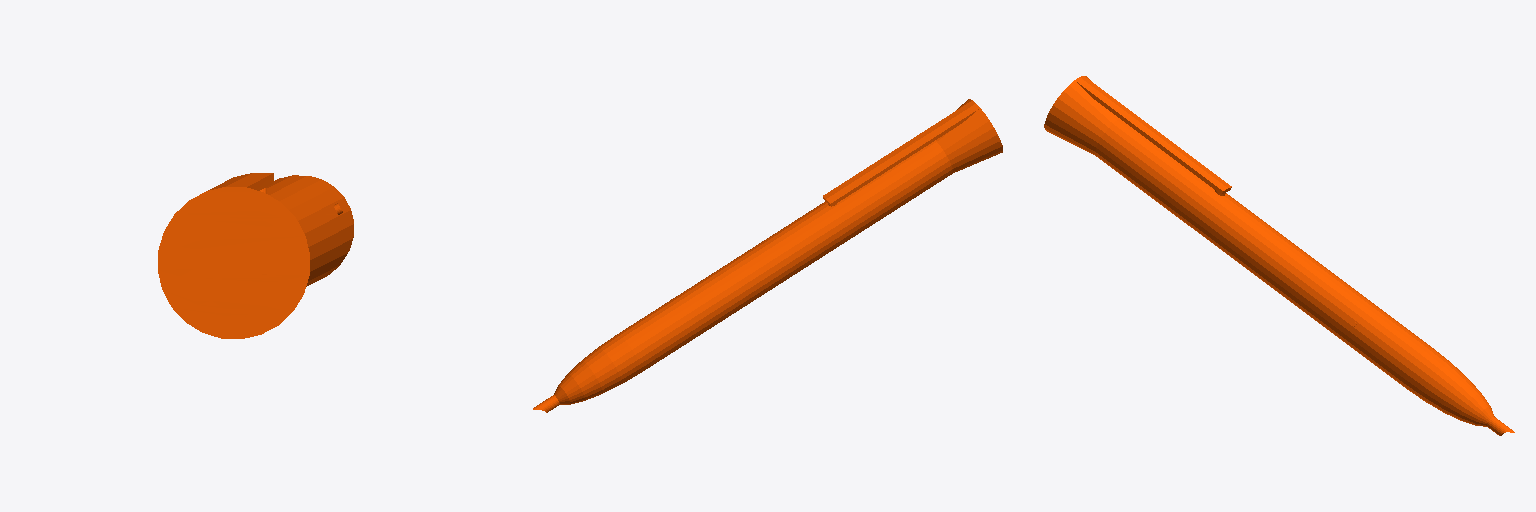
URDF robot description (Pen_30fe2caf47e9305154417498166ea895):
<?xml version="1.0" ?>
<robot name="Pen_30fe2caf47e9305154417498166ea895">
   <material name="obj_color">
      <color rgba="1.0 0.423529411765 0.0392156862745 1.0"/>
   </material>
   <link name="top">
      <inertial>
         <origin rpy="1.33916413984481e-06 7.144141227940514e-05 7.148649113729911e-05" xyz="-0.007845892348803502 -0.01172358051162621 0.005923774010687818"/>
         <mass value="0.03538982358283103"/>
         <inertia ixx="5.309197971949836e-05" ixy="-2.742927651001802e-05" ixz="1.412575952566252e-05" iyy="3.05837134335638e-05" iyz="2.105642526744845e-05" izz="6.059137440348691e-05"/>
      </inertial>
      <visual>
         <origin rpy="0 0 0" xyz="0 0 0"/>
         <geometry>
            <mesh filename="top_watertight_tiny.stl" scale="1 1 1"/>
         </geometry>
         <material name="obj_color"/>
      </visual>
      <collision>
         <origin rpy="0 0 0" xyz="0 0 0"/>
         <geometry>
            <mesh filename="top_watertight_tiny.obj" scale="1 1 1"/>
         </geometry>
      </collision>
   </link>
   <link name="bottom">
      <inertial>
         <origin rpy="1.633333333199431e-08 1.633333333199431e-08 1.633333333362855e-08" xyz="0.3464080000000008 0.3464080000000008 0.3464080000000008"/>
         <mass value="0.0009800000000000017"/>
         <inertia ixx="1.633333333253906e-08" ixy="5.447480642029219e-19" ixz="5.447480642029219e-19" iyy="1.633333333253906e-08" iyz="5.447480642029219e-19" izz="1.633333333253906e-08"/>
      </inertial>
      <visual>
         <origin rpy="0 0 0" xyz="0 0 0"/>
         <geometry>
            <mesh filename="bottom_watertight_tiny.stl" scale="1 1 1"/>
         </geometry>
         <material name="obj_color"/>
      </visual>
   </link>
   <link name="world"/>
   <joint name="world_to_base" type="fixed">
      <origin xyz="0 0 0"/>
      <axis xyz="0 0 0"/>
      <parent link="world"/>
      <child link="bottom"/>
   </joint>
   <joint name="rotation" type="revolute">
      <origin xyz="0 0 0"/>
      <axis xyz="0 0 -1"/>
      <parent link="bottom"/>
      <child link="top"/>
      <dynamics damping="1.0" friction="1.0"/>
      <limit effort="0.1" velocity="0.1" lower="0" upper="0.001"/>
   </joint>
</robot>

--- Facts derived from the render (not from the file) ---
The picture shows the robot from 3 angles, left to right: view 1: azimuth 30°, elevation 25°; view 2: azimuth 150°, elevation 25°; view 3: azimuth 270°, elevation 25°; orthographic projection.
Robot: Pen_30fe2caf47e9305154417498166ea895 — 3 links, 2 joints (1 revolute, 1 fixed); root link world; default pose: all joints at 0.
Visible links, largest first — view 1: top; view 2: top; view 3: top.
Link boxes in pixels (<box>): top: <box>158,173,353,338</box>; top: <box>533,99,1002,412</box>; top: <box>1044,76,1514,435</box>.
Size in the robot's own frame: 0.0977 by 0.1396 by 0.0775 metres.
1 mesh visuals loaded from 2 distinct referenced files (1 binary STL); not drawn: 1 (reference not matched to a file when rendering).
